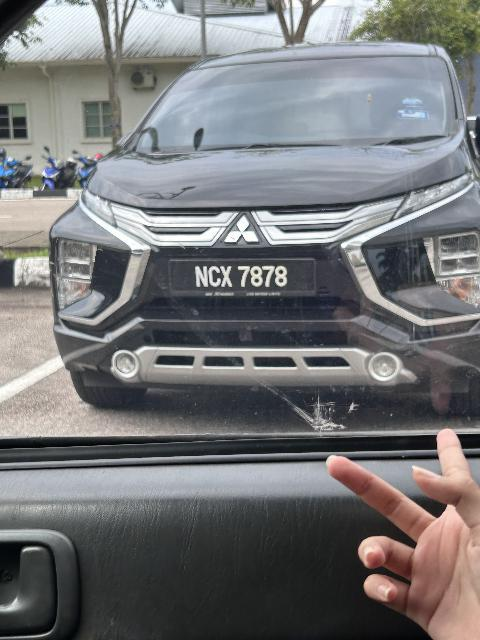License_Plate: (165, 258, 322, 305)
NCX7878: (165, 258, 322, 305)
car: (43, 36, 480, 409)
